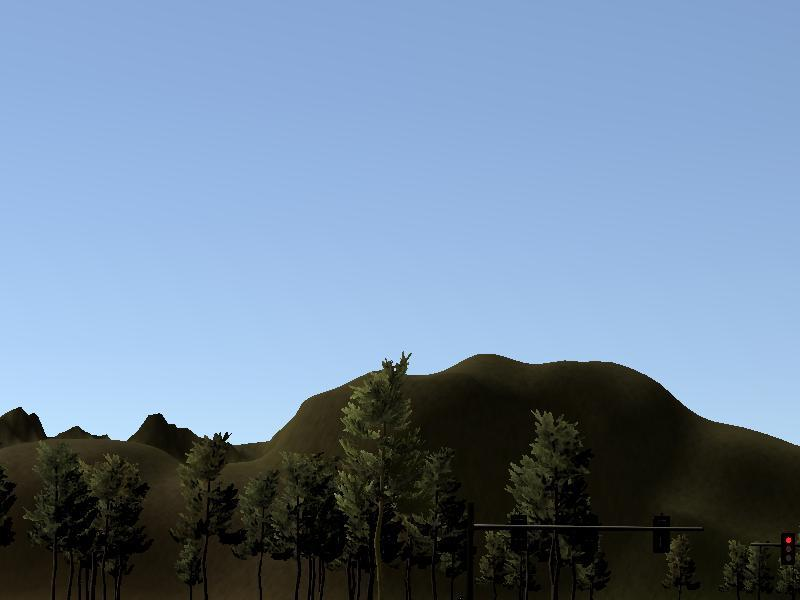Red: (781, 532, 795, 564)
